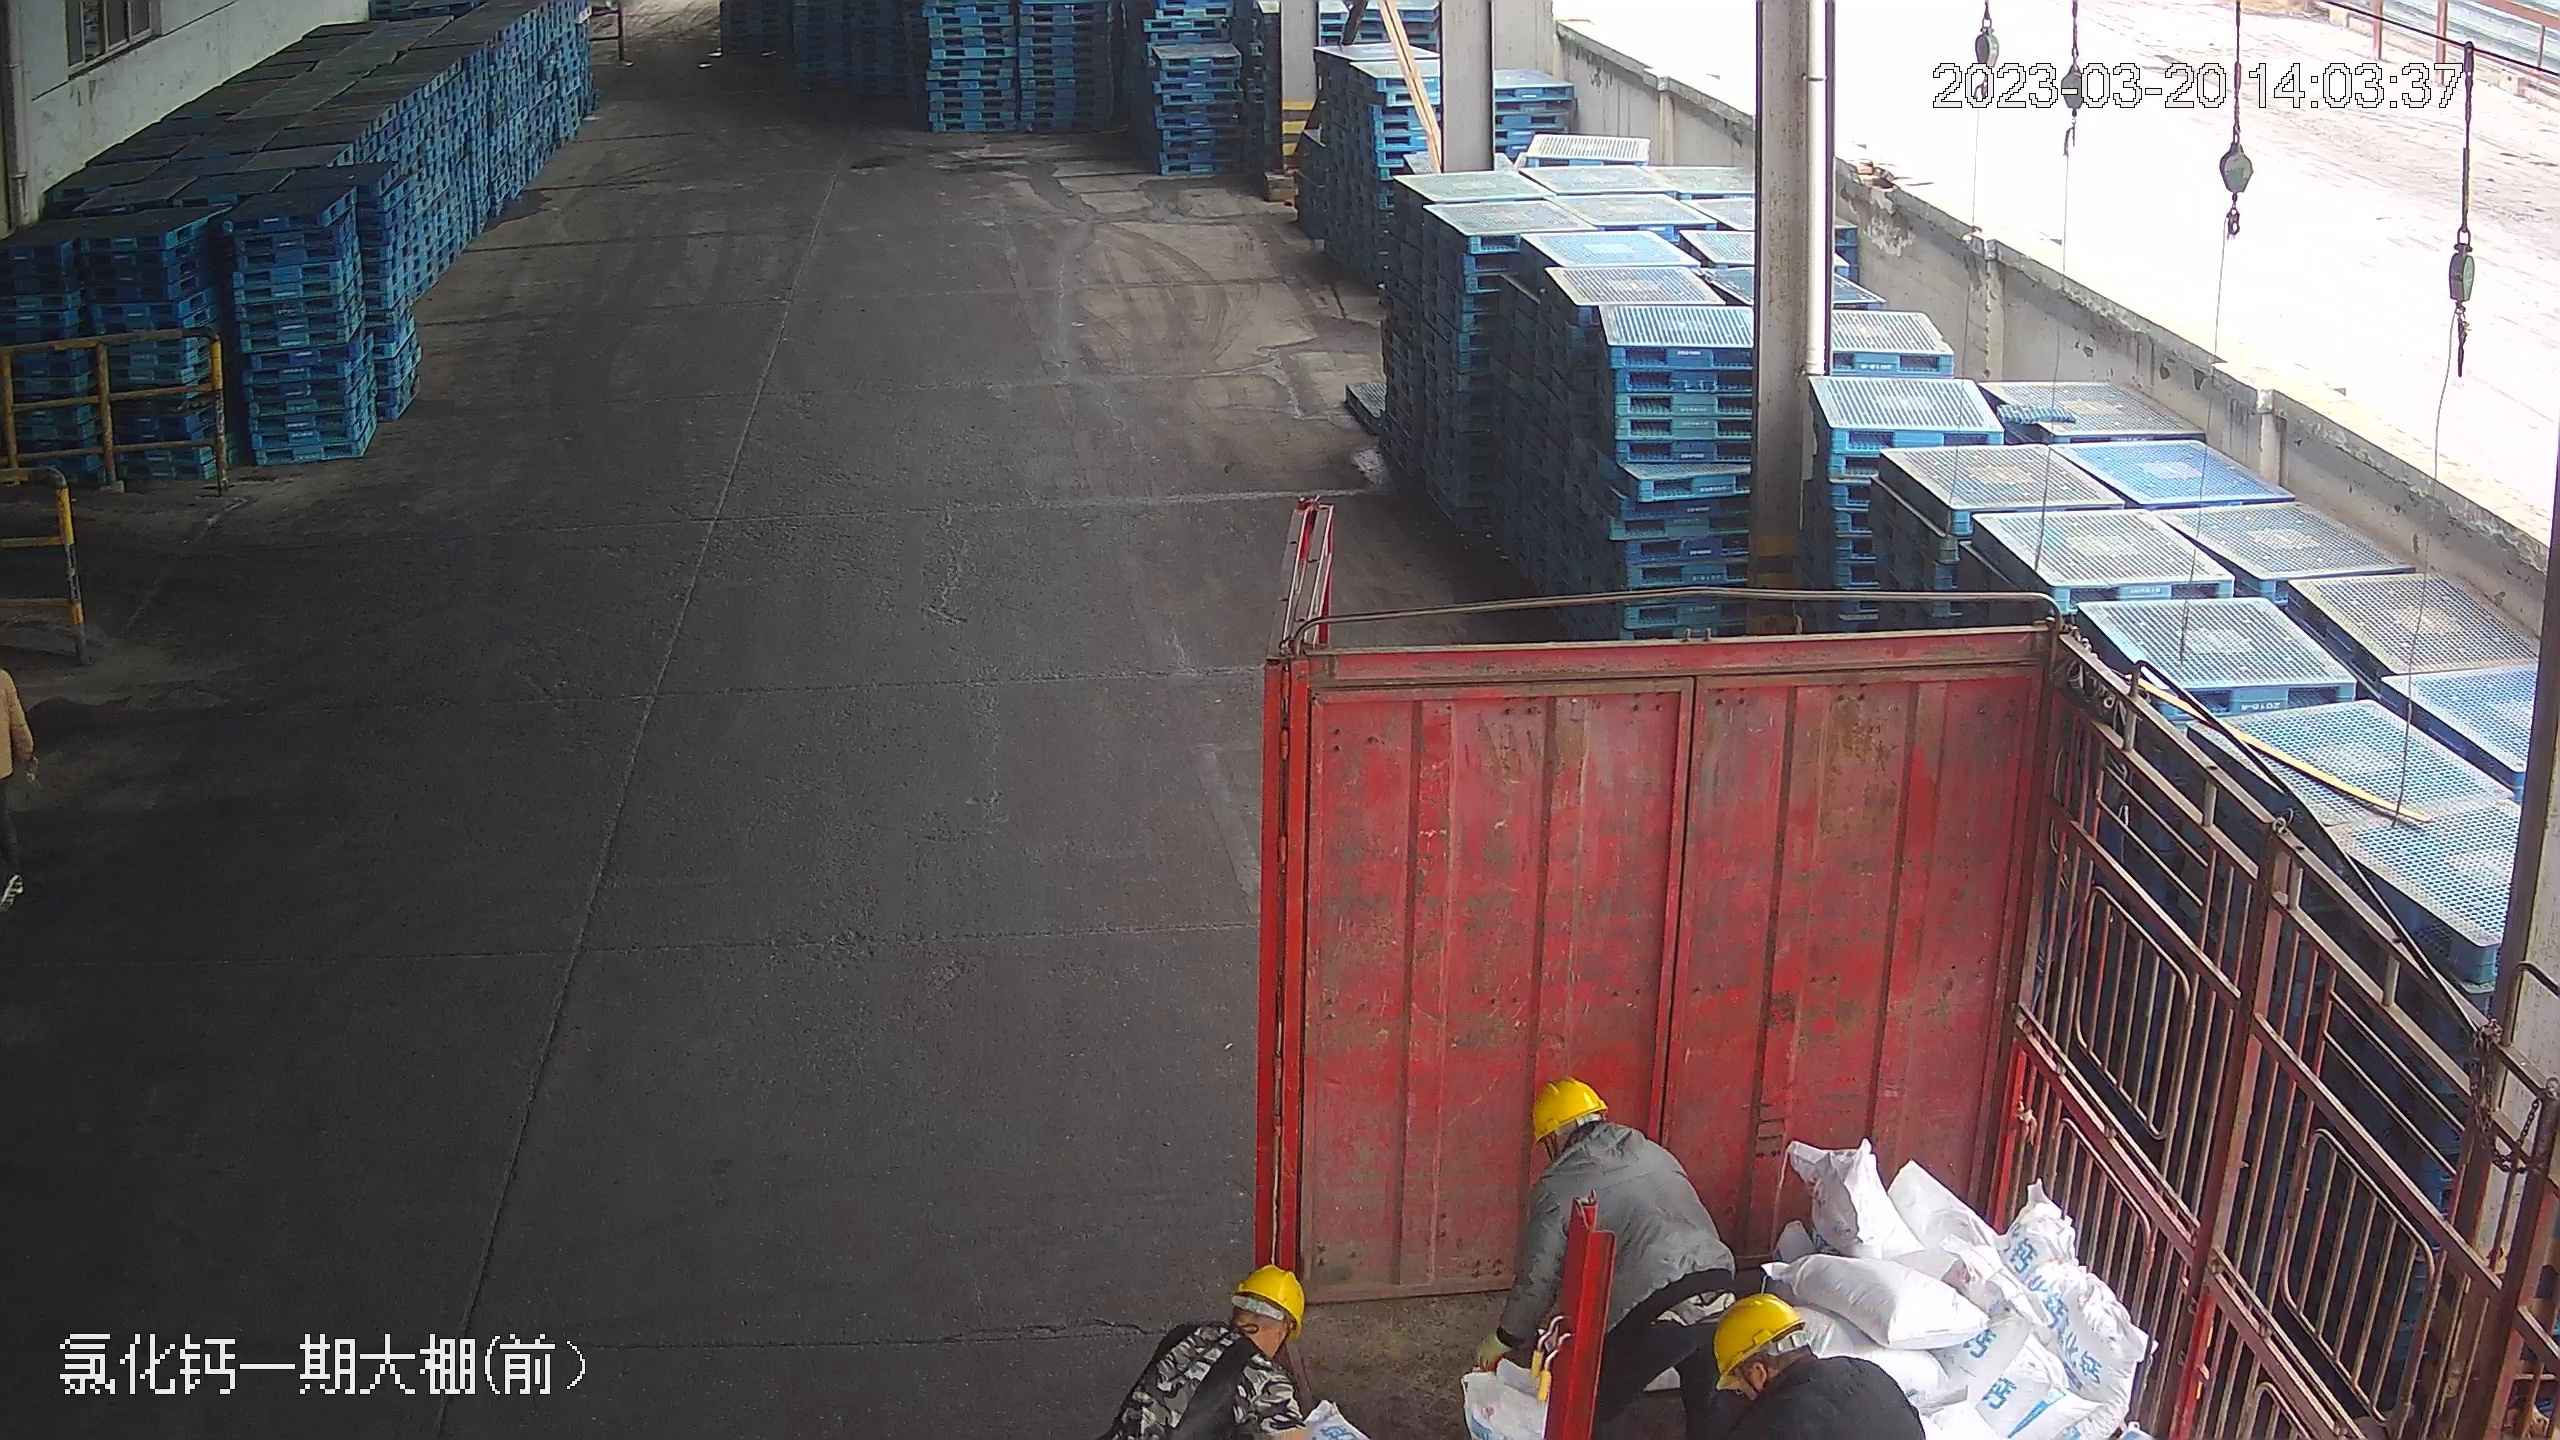head: (1706, 1289, 1904, 1430), (1527, 1078, 1683, 1230), (1174, 1261, 1322, 1416)
helmet: (1709, 1289, 1806, 1383), (1526, 1075, 1611, 1143), (1228, 1260, 1313, 1328)
people: (1486, 1072, 1736, 1440)
truck: (1219, 567, 2487, 1440)
